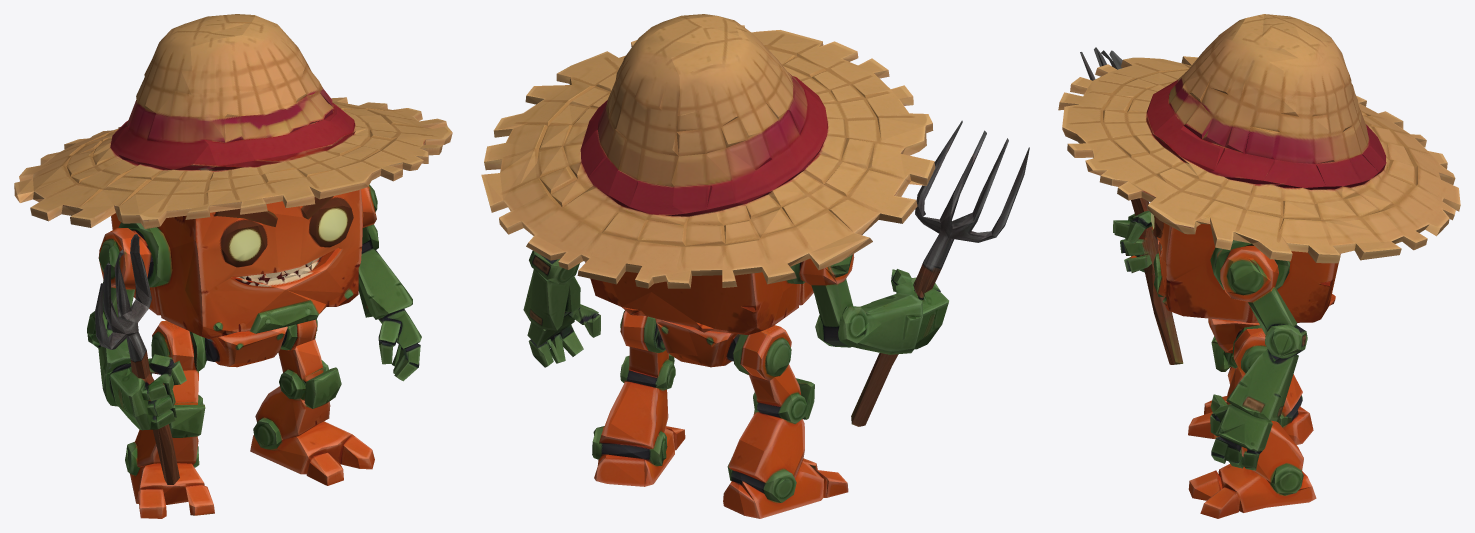
File: bot-farm-drone.glb
3 views of the same model, side by side, from view 1: azimuth 30°, elevation 25°; view 2: azimuth 150°, elevation 25°; view 3: azimuth 270°, elevation 25° (orthographic). The views are drawn at different scales.
Size of the model in its own units: 1.86 by 1.9 by 1.59.
1 material, 1 textured.
